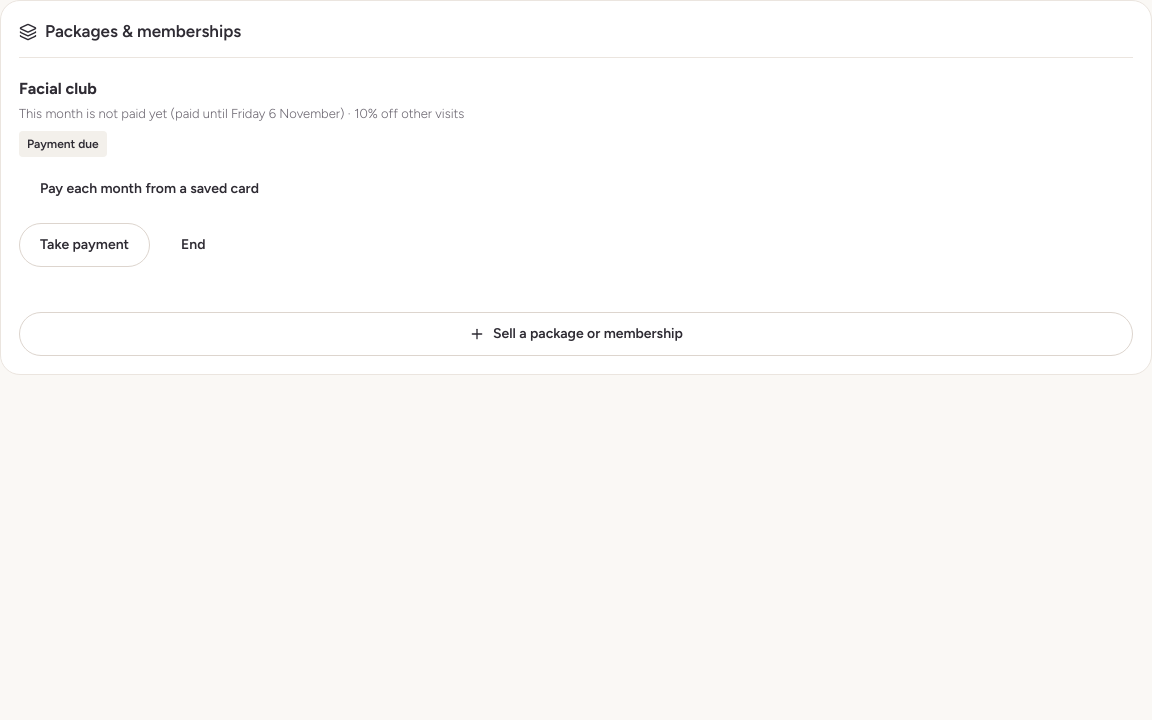
Scenario: says how to save a card when the client has none
This screenshot has width=1152, height=720.
Step 1. Click the button "Pay each month from a saved card" → [149, 189], box [19,167,280,211]
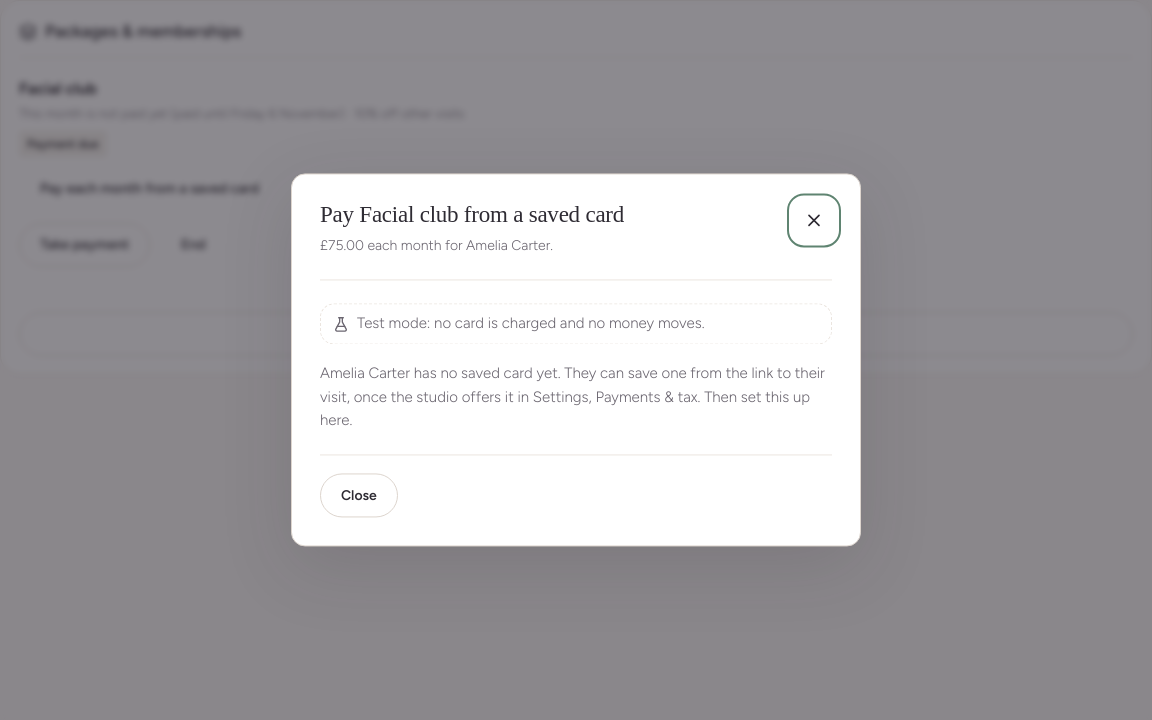
Expected: the text "Amelia Carter has no saved card yet. They can save one from the link to their visit, once the studio offers it in Settin" is shown, [320,363,832,433]
